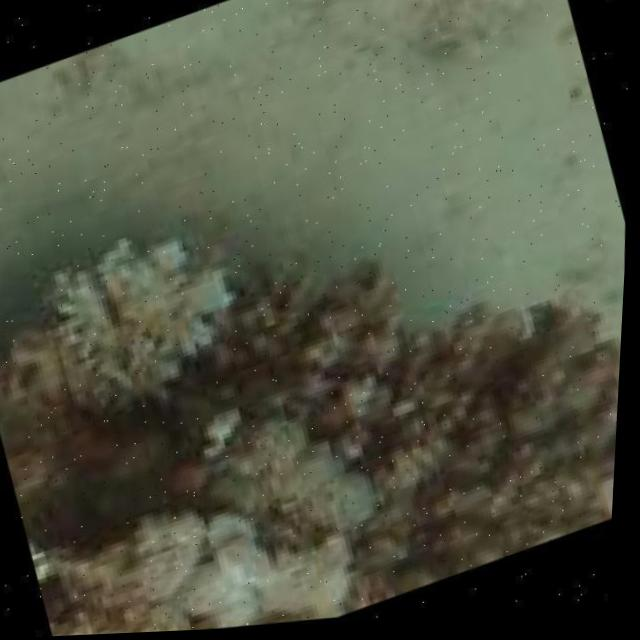Bleached Coral: (66, 501, 340, 637), (43, 224, 250, 403)
